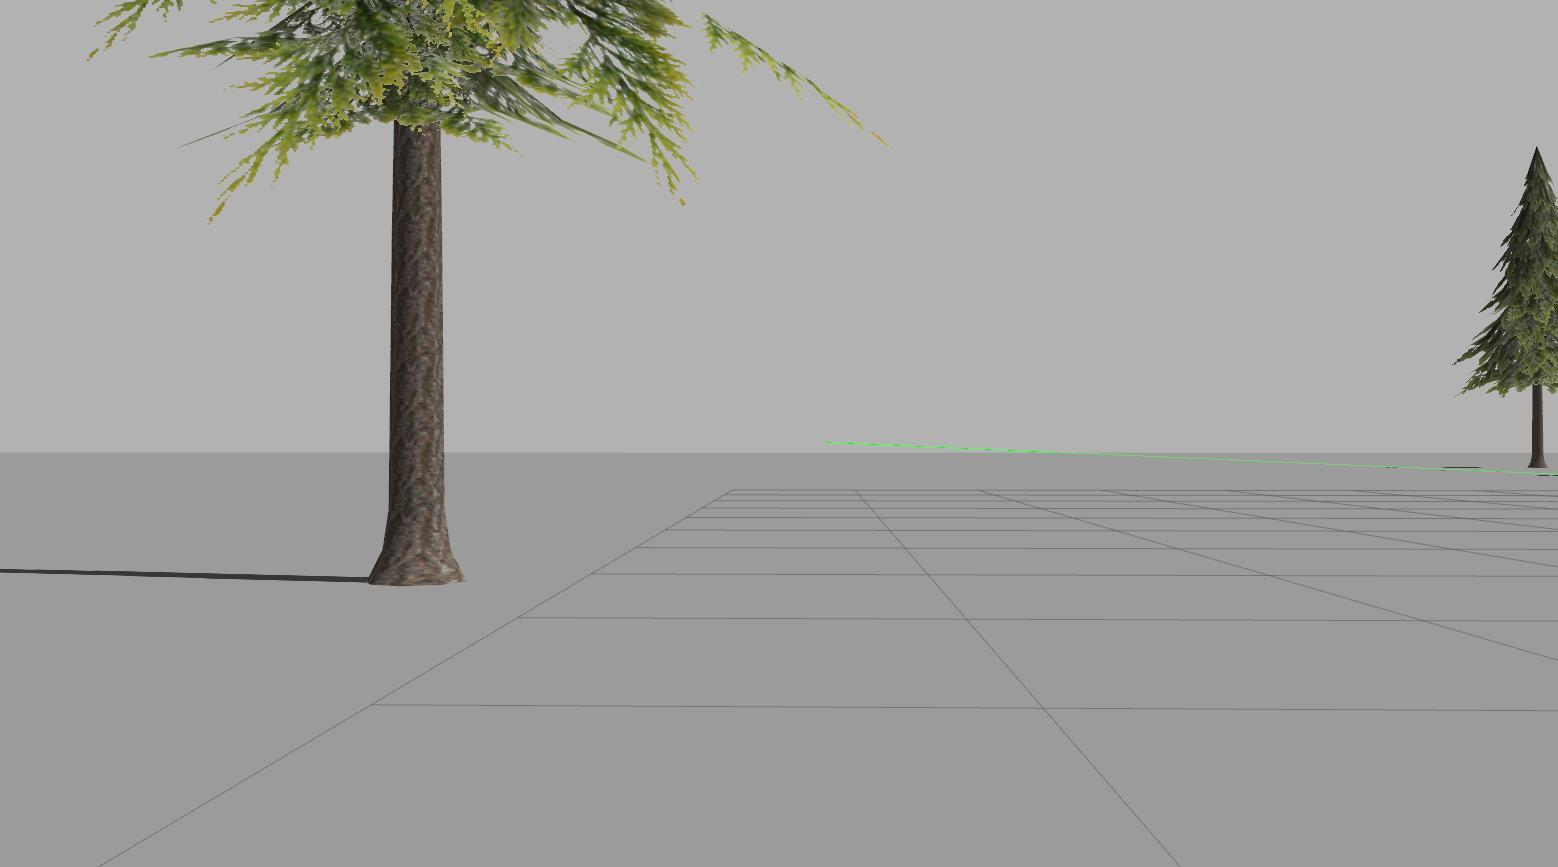tree_gazebo: (164, 0, 687, 584), (1458, 149, 1558, 467)
